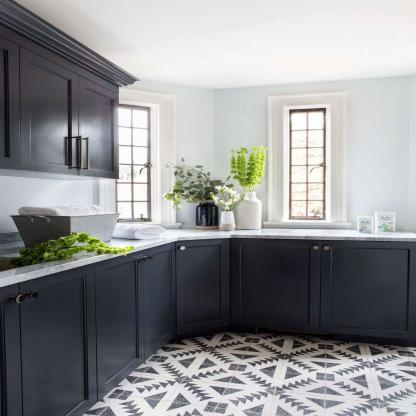Ceramic floor: (79, 331, 416, 416)
